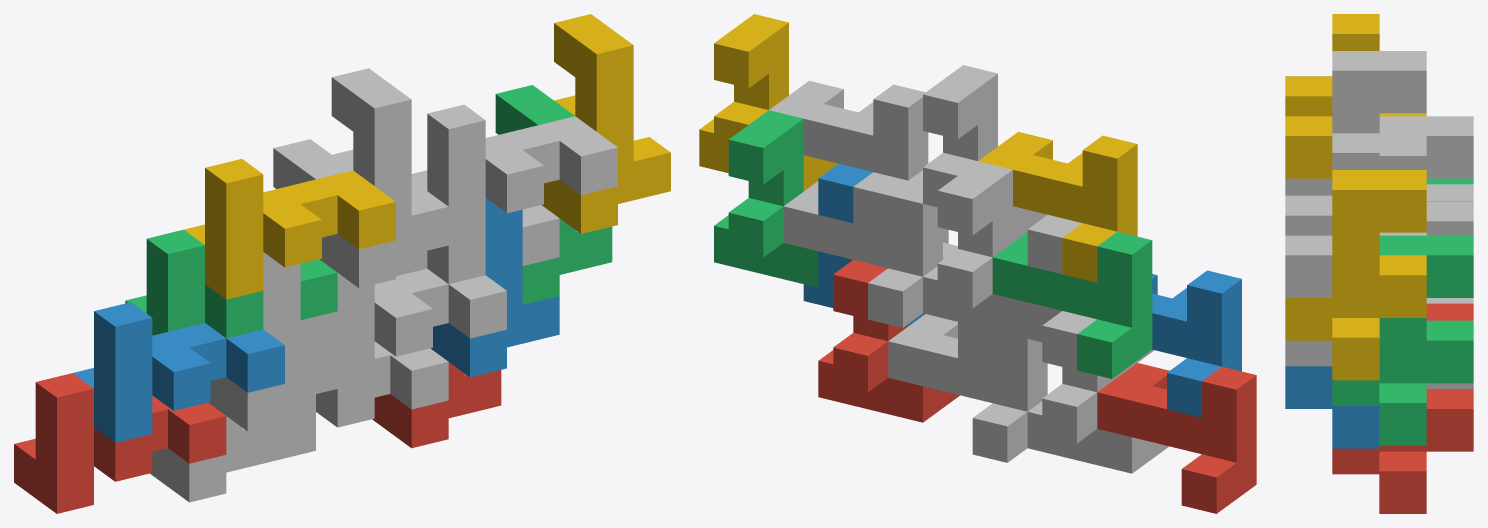
File: tiling.obj
3 views of the same model, side by side, from view 1: azimuth 30°, elevation 25°; view 2: azimuth 150°, elevation 25°; view 3: azimuth 270°, elevation 25° (orthographic). The views are drawn at different scales.
Visible parts, largest first — view 1: copy_1_domain_4, copy_1_domain_2, copy_1_domain_8, copy_1_domain_1, copy_2_domain_4, copy_2_domain_8, copy_1_domain_6, copy_1_domain_3, copy_2_domain_2, copy_2_domain_6, copy_1_domain_5, copy_2_domain_7 (+4 smaller); view 2: copy_1_domain_1, copy_1_domain_3, copy_1_domain_4, copy_1_domain_5, copy_1_domain_8, copy_2_domain_7, copy_2_domain_3, copy_1_domain_7, copy_2_domain_1, copy_2_domain_5, copy_1_domain_2, copy_2_domain_8 (+4 smaller); view 3: copy_2_domain_8, copy_2_domain_7, copy_2_domain_4, copy_2_domain_5, copy_1_domain_4, copy_1_domain_8, copy_2_domain_3, copy_2_domain_6, copy_1_domain_6, copy_2_domain_1, copy_1_domain_3, copy_1_domain_5 (+1 smaller).
Boxes of the visible parts, <box> form: copy_1_domain_4: <box>184,159,395,299</box>; copy_1_domain_2: <box>73,302,284,442</box>; copy_1_domain_8: <box>411,104,617,245</box>; copy_1_domain_1: <box>14,373,226,513</box>; copy_2_domain_4: <box>319,68,448,287</box>; copy_2_domain_8: <box>542,14,670,233</box>; copy_1_domain_6: <box>337,268,506,388</box>; copy_1_domain_3: <box>125,229,337,338</box>; copy_2_domain_2: <box>208,252,337,431</box>; copy_2_domain_6: <box>431,198,559,377</box>; copy_1_domain_5: <box>279,341,448,459</box>; copy_2_domain_7: <box>495,85,612,304</box>; copy_1_domain_1: <box>1097,363,1256,513</box>; copy_1_domain_3: <box>992,231,1152,378</box>; copy_1_domain_4: <box>978,131,1137,282</box>; copy_1_domain_5: <box>888,314,1047,462</box>; copy_1_domain_8: <box>769,80,928,231</box>; copy_2_domain_7: <box>714,110,818,287</box>; copy_2_domain_3: <box>923,161,1027,338</box>; copy_1_domain_7: <box>783,180,942,327</box>; copy_2_domain_1: <box>1027,311,1168,473</box>; copy_2_domain_5: <box>818,260,959,422</box>; copy_1_domain_2: <box>1152,270,1241,417</box>; copy_2_domain_8: <box>699,14,837,191</box>; copy_2_domain_8: <box>1285,170,1426,380</box>; copy_2_domain_7: <box>1332,235,1473,445</box>; copy_2_domain_4: <box>1285,51,1426,195</box>; copy_2_domain_5: <box>1332,303,1473,513</box>; copy_1_domain_4: <box>1285,14,1426,178</box>; copy_1_domain_8: <box>1285,133,1426,297</box>; copy_2_domain_3: <box>1379,116,1473,235</box>; copy_2_domain_6: <box>1285,366,1379,448</box>; copy_1_domain_6: <box>1285,340,1332,366</box>; copy_2_domain_1: <box>1426,184,1473,201</box>; copy_1_domain_3: <box>1426,178,1473,184</box>; copy_1_domain_5: <box>1426,383,1473,388</box>.
Bounding box in the file's own units: 16 × 9 × 4.
